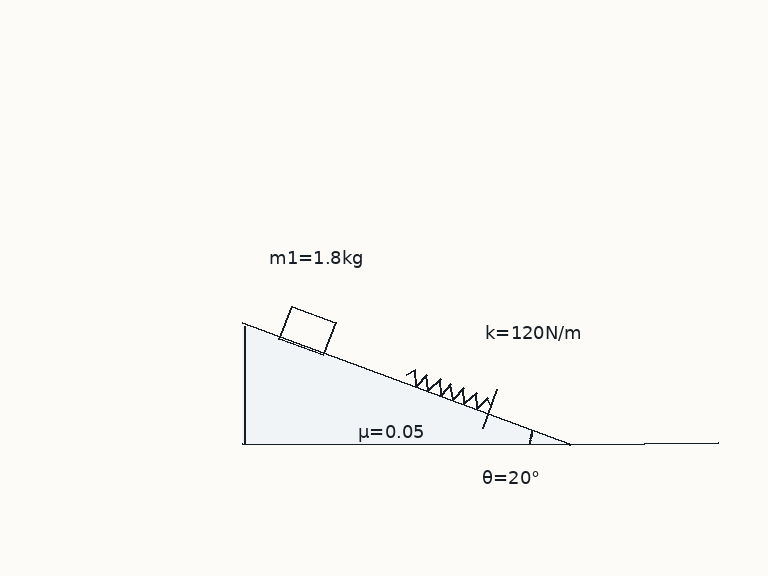block: (278, 304, 337, 356)
ramp: (241, 323, 572, 446)
spring: (404, 368, 493, 410)
